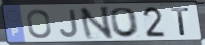2: (141, 5, 168, 39)
J: (58, 8, 80, 39)
N: (78, 5, 115, 41)
O: (109, 6, 142, 39), (25, 8, 53, 40)
T: (170, 7, 192, 37)
